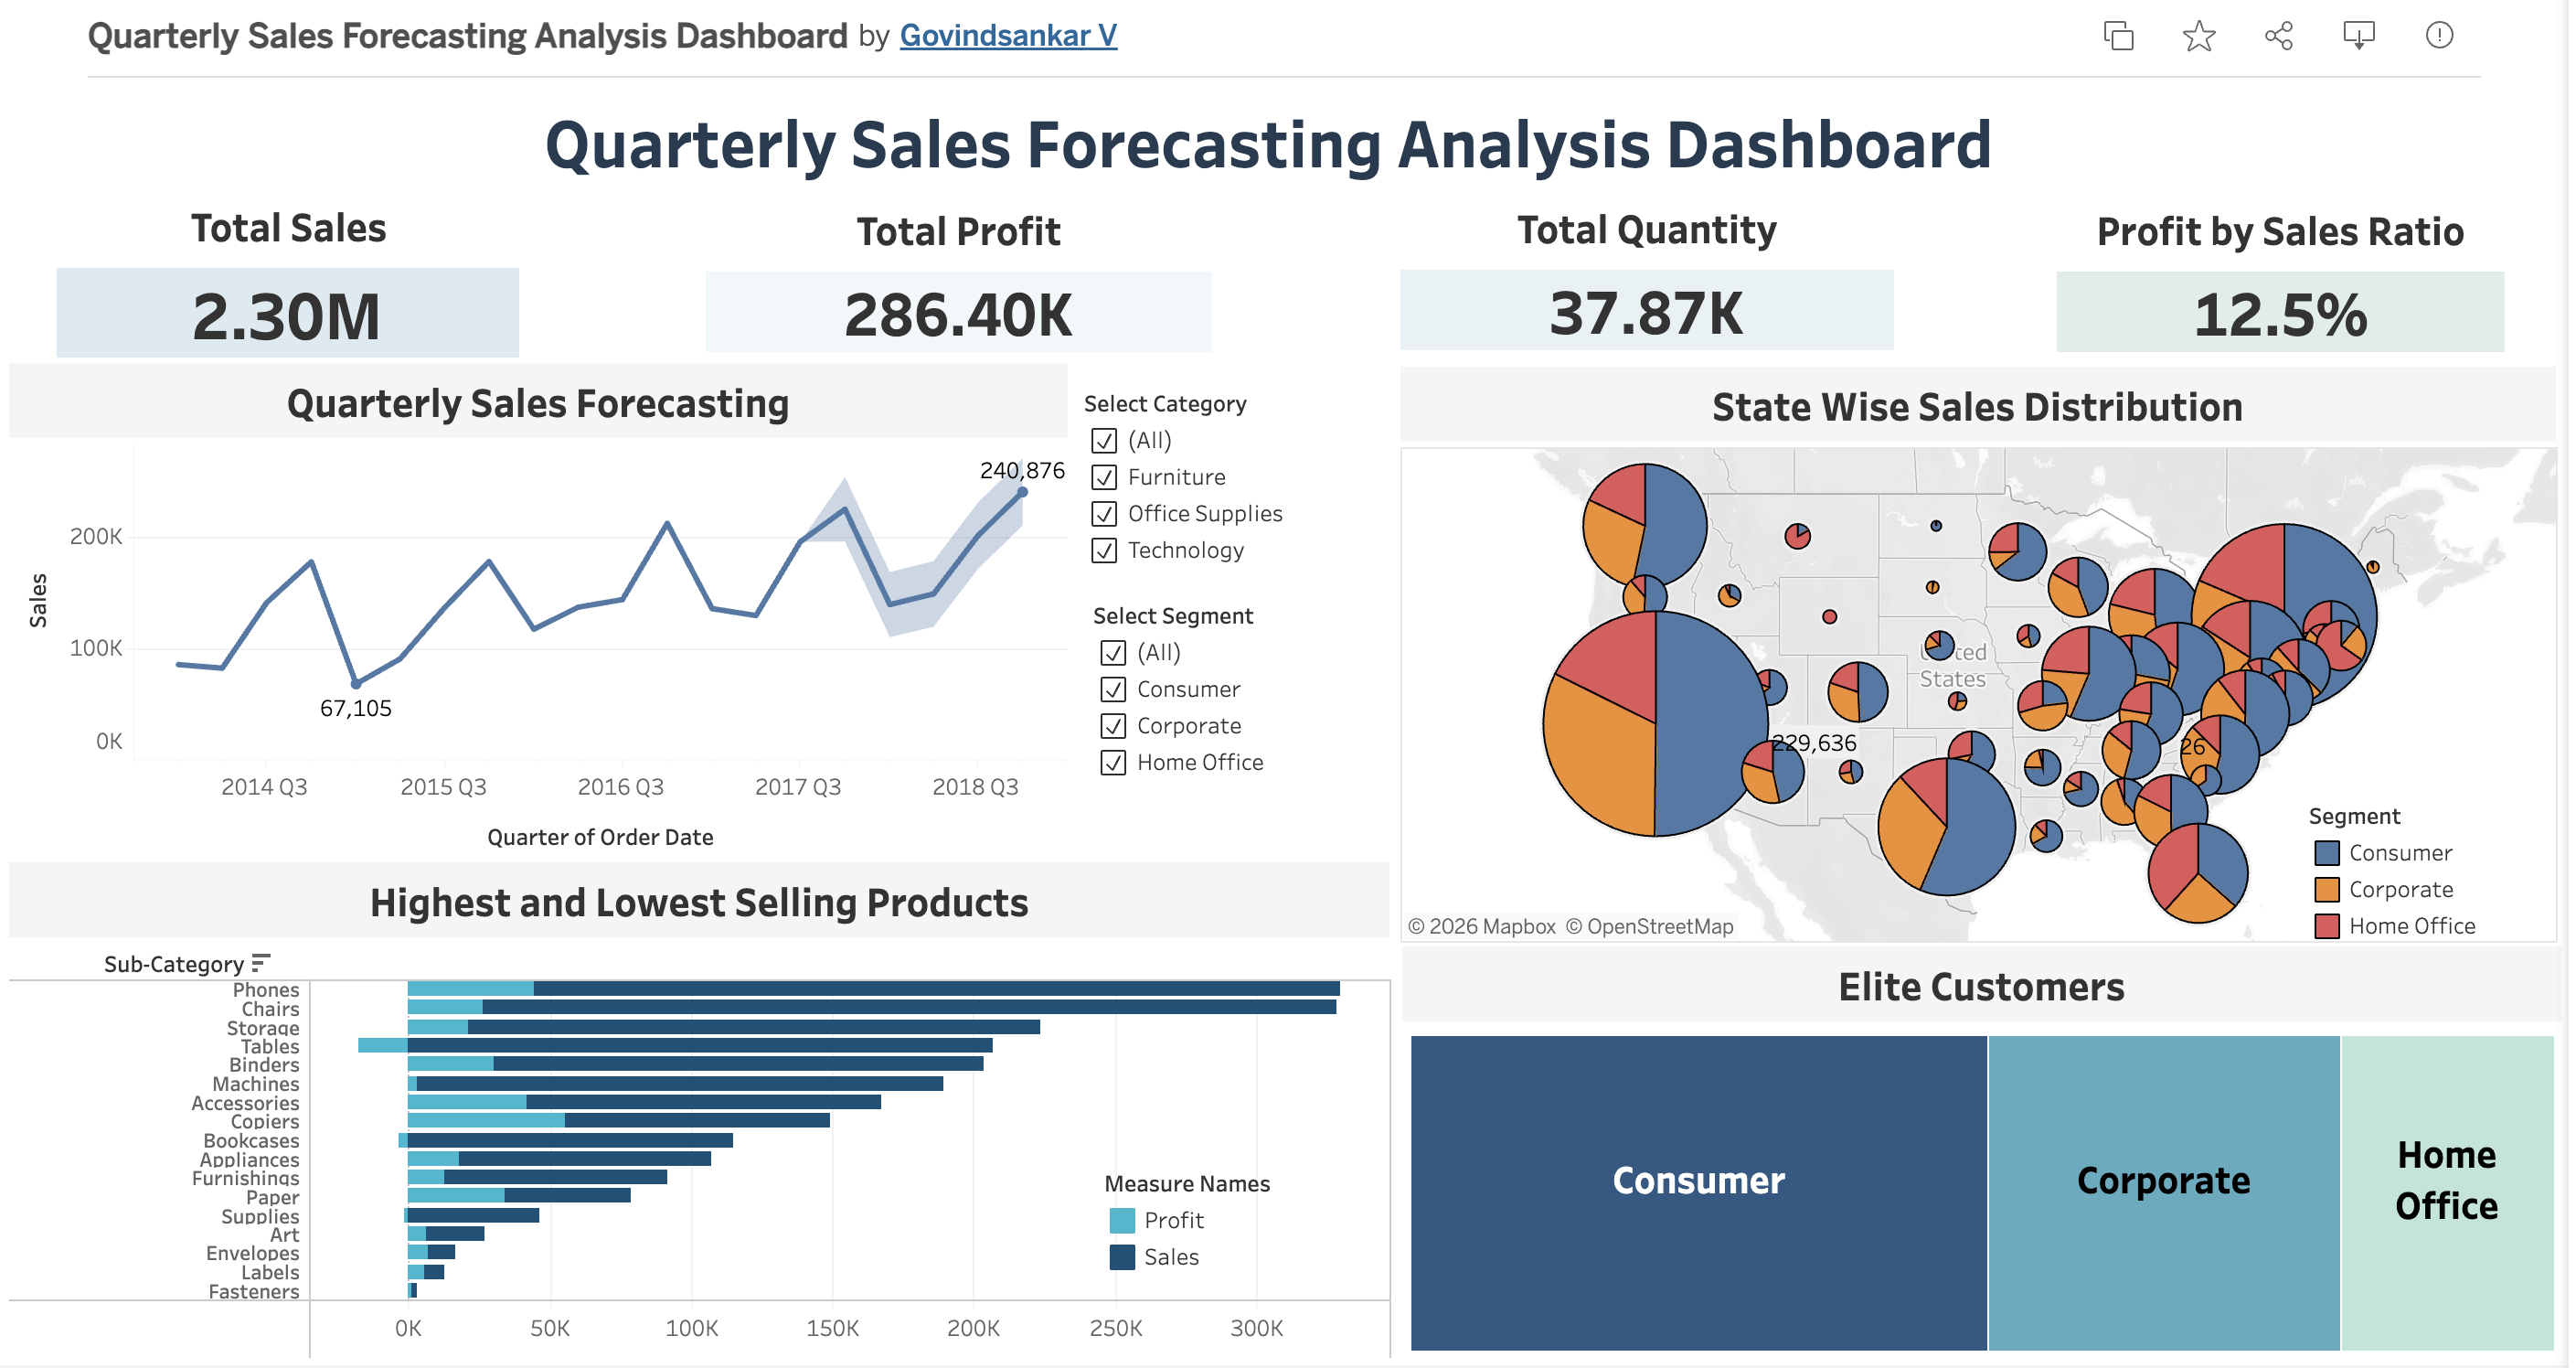

What the dashboard file says about the page in this screenshot:
{"tool":"tableau","page":{"name":"Analysis Dashboard","canvas":[1000,1000],"units":"permille","ordinal":0},"visuals":[{"type":"text","box":[15.1,4.7,957.8,88.1]},{"type":"worksheet","title":"KPI - 1","mark":"Automatic","box":[22.3,84.6,180.5,132.8]},{"type":"worksheet","title":"KPI - 3","mark":"Automatic","box":[545,87,192.5,131.6]},{"type":"worksheet","title":"KPI - 2","mark":"Automatic","box":[274.6,88.1,197.3,132.8]},{"type":"worksheet","title":"Profit by Sales Ratio","mark":"Automatic","box":[800.8,88.1,174.4,130.4]},{"type":"worksheet","title":"Quarterly Sales Forecasting","mark":"Automatic","rows":["Sales"],"cols":["Order Date"],"box":[3.6,222.1,412.2,386.6]},{"type":"worksheet","title":"State Wise Sales Distribution","mark":"Pie","box":[545,224.4,450.8,447.7]},{"type":"filter","title":"Quarterly Sales Forecasting","param":"[federated.1u0kskx1j77vw912egfd0013dctd].[none:Category:nk]","box":[421.9,239.7,101.4,177.4]},{"type":"filter","title":"Quarterly Sales Forecasting","param":"[federated.1u0kskx1j77vw912egfd0013dctd].[none:Segment:nk]","box":[425.5,405.4,101.4,198.6]},{"type":"legend","title":"State Wise Sales Distribution","param":"[federated.1u0kskx1j77vw912egfd0013dctd].[none:Segment:nk]","box":[898.6,561.7,84.5,135.1]},{"type":"worksheet","title":"Highest and Lowest Selling Products","mark":"Bar","rows":["Sub-Category"],"cols":["Sales","Profit"],"box":[3.6,608.7,538.3,386.6]},{"type":"worksheet","title":"Elite Customers","mark":"Automatic","box":[545.6,674.5,451.4,320.8]},{"type":"legend","title":"Highest and Lowest Selling Products","param":"[federated.1u0kskx1j77vw912egfd0013dctd].[:Measure Names]","box":[429.7,847.2,107.4,102.2]}]}

Visuals, with their boxes on the dashboard's canvas, which has no fixed pixel size, in thousandths of its width and height (x1, y1, x2, y2). These are canvas units, not pixel positions in the 2576x1368 screenshot, which may show the page scaled, cropped or inside an application window:
text: locate(15, 5, 973, 93)
"KPI - 1" worksheet: locate(22, 85, 203, 217)
"KPI - 3" worksheet: locate(545, 87, 738, 219)
"KPI - 2" worksheet: locate(275, 88, 472, 221)
"Profit by Sales Ratio" worksheet: locate(801, 88, 975, 218)
"Quarterly Sales Forecasting" worksheet: locate(4, 222, 416, 609)
"State Wise Sales Distribution" worksheet (Pie marks): locate(545, 224, 996, 672)
"Quarterly Sales Forecasting" filter: locate(422, 240, 523, 417)
"Quarterly Sales Forecasting" filter: locate(426, 405, 527, 604)
"State Wise Sales Distribution" legend: locate(899, 562, 983, 697)
"Highest and Lowest Selling Products" worksheet (Bar marks): locate(4, 609, 542, 995)
"Elite Customers" worksheet: locate(546, 674, 997, 995)
"Highest and Lowest Selling Products" legend: locate(430, 847, 537, 949)
